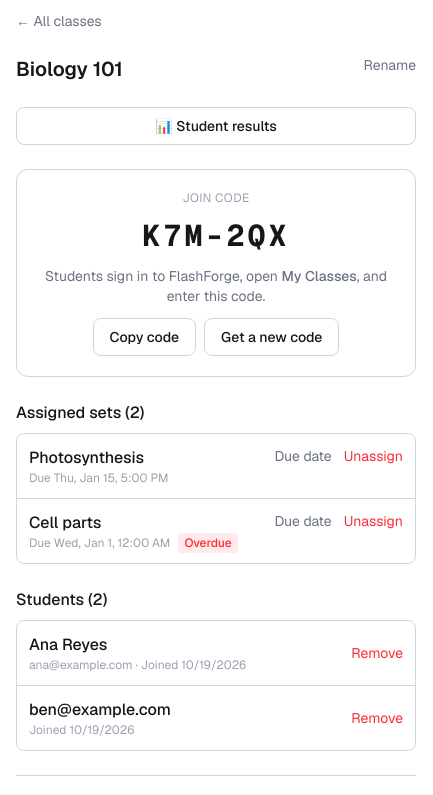
Test: class page › replaces the join code after confirming
Click the button "Get a new code" at (272, 337), box [204,318,339,356]
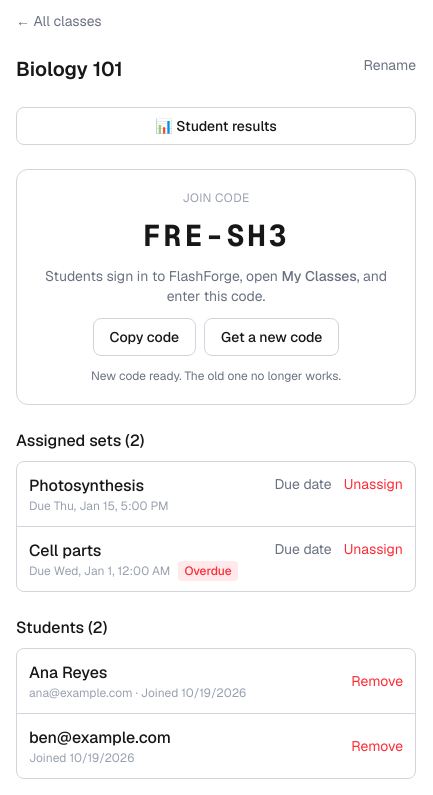
Check: the text with test id "join-code" reads "FRE-SH3", box [142,216,290,255]
Check: the message shows "old one no longer works", box [91,368,341,384]
